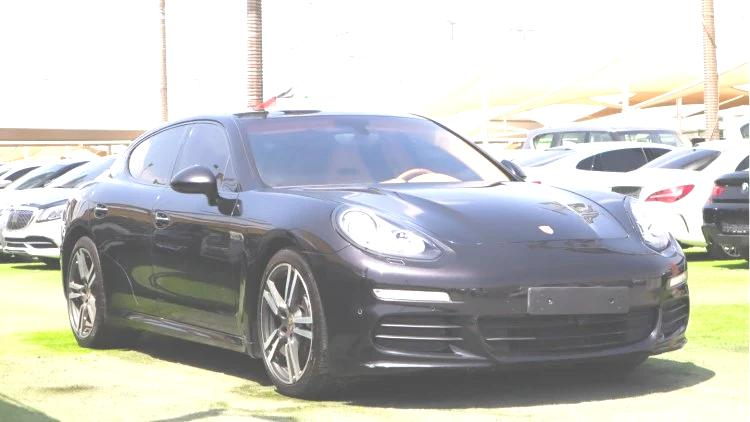porsche: (533, 221, 563, 238)
